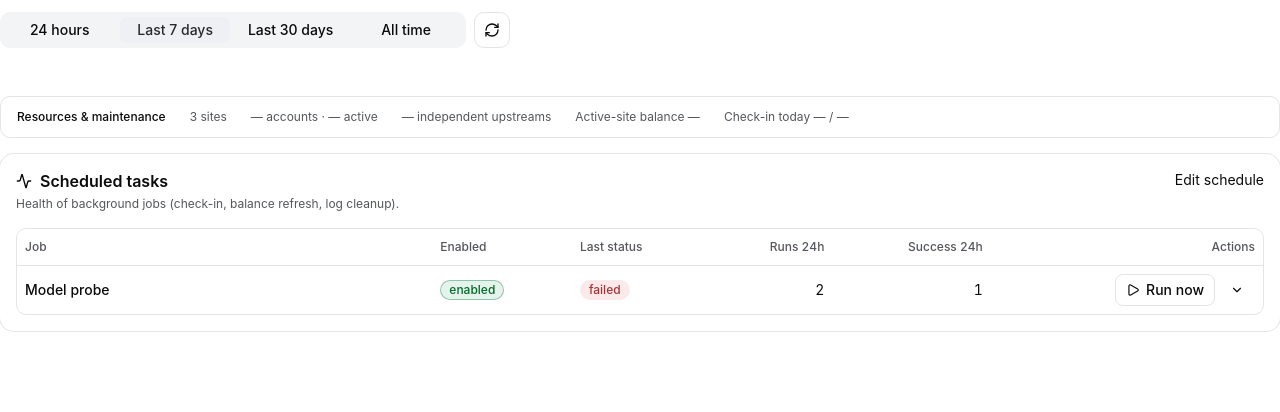
Scenario: OverviewSection model-probe scheduler card › shows the recent runs list when expanded, with honest failure verdicts
The image size is (1280, 412).
Click the button named "Recent runs" at (1237, 290), box top-left (1219, 274), bottom-right (1255, 306)
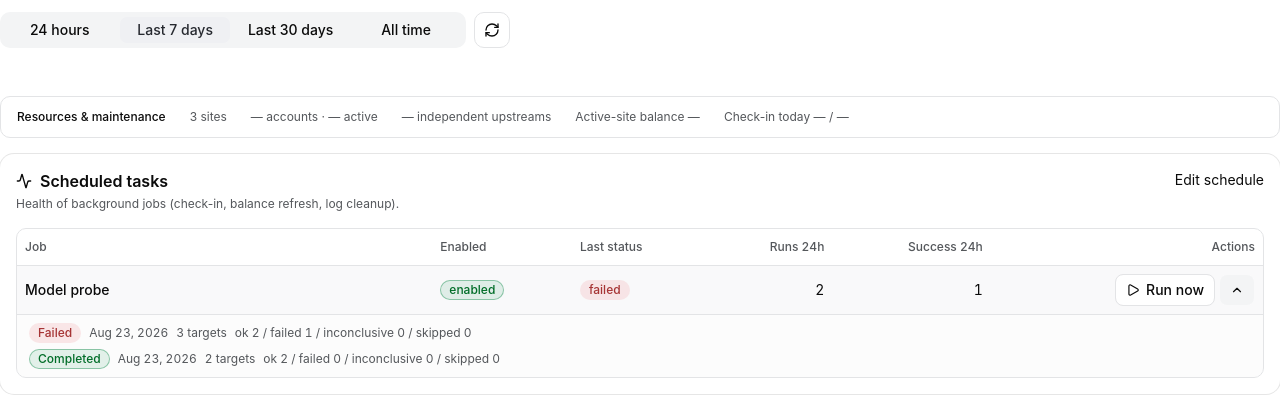
Expected: the icon "Failed" is shown, top-left (29, 322), bottom-right (81, 342)
Expected: the text "Completed" is shown, top-left (29, 348), bottom-right (110, 368)
Expected: the text "3 targets" is shown, top-left (176, 324), bottom-right (227, 340)
